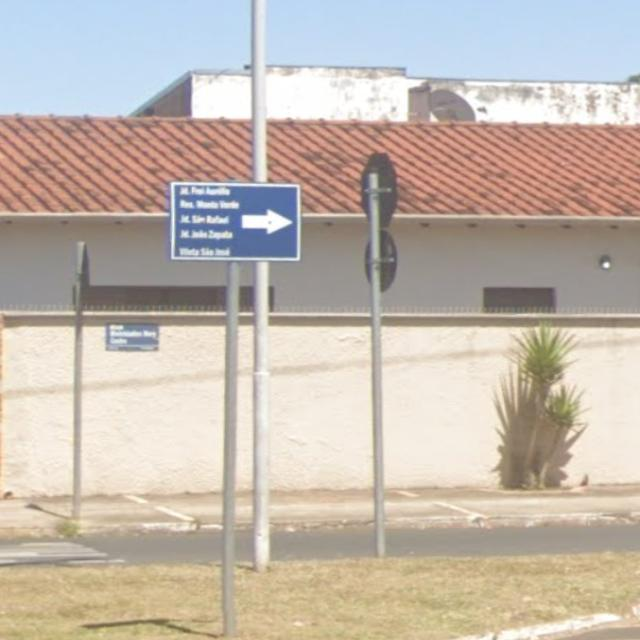indication: (161, 163, 318, 276)
